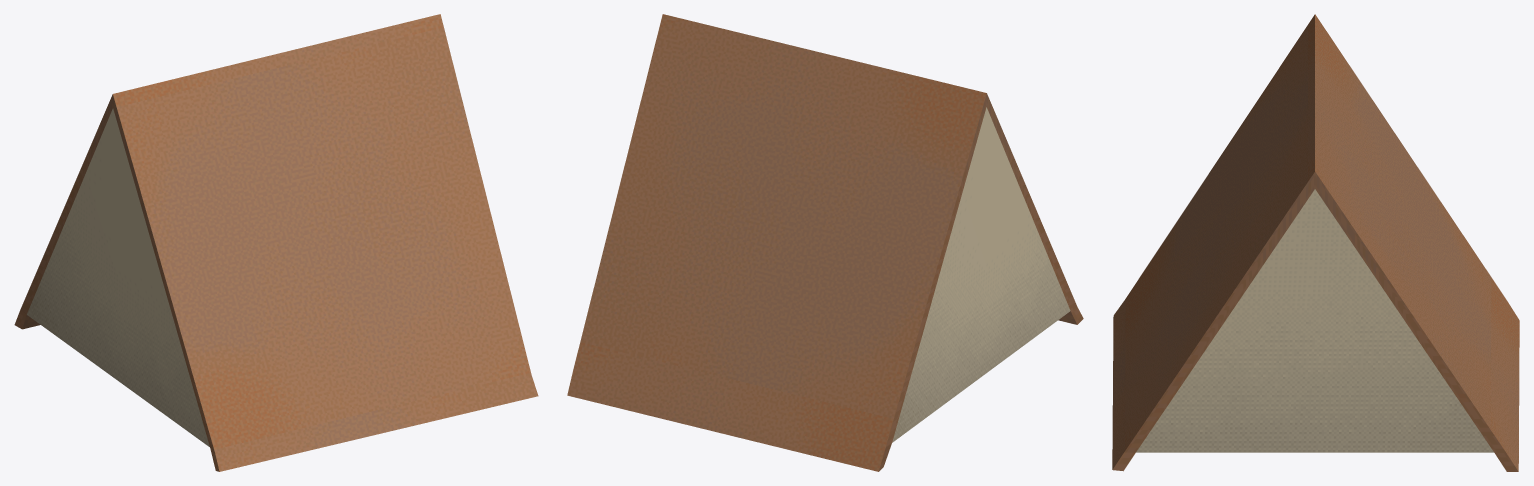
The model's file is house_square_roof.fbx.
3 renders of one model, left to right at view 1: azimuth 30°, elevation 25°; view 2: azimuth 150°, elevation 25°; view 3: azimuth 270°, elevation 25°, orthographic.
Visible parts, largest first — view 1: square_roof; view 2: square_roof; view 3: square_roof.
Part boxes in pixels (box(x1,y1,x2,y2)): square_roof: box(14, 14, 538, 471); square_roof: box(567, 14, 1083, 471); square_roof: box(1112, 14, 1519, 471).
Bounding box in the file's own units: 16.09 × 14.47 × 17.59.
Materials: 2 (2 with a texture image).
